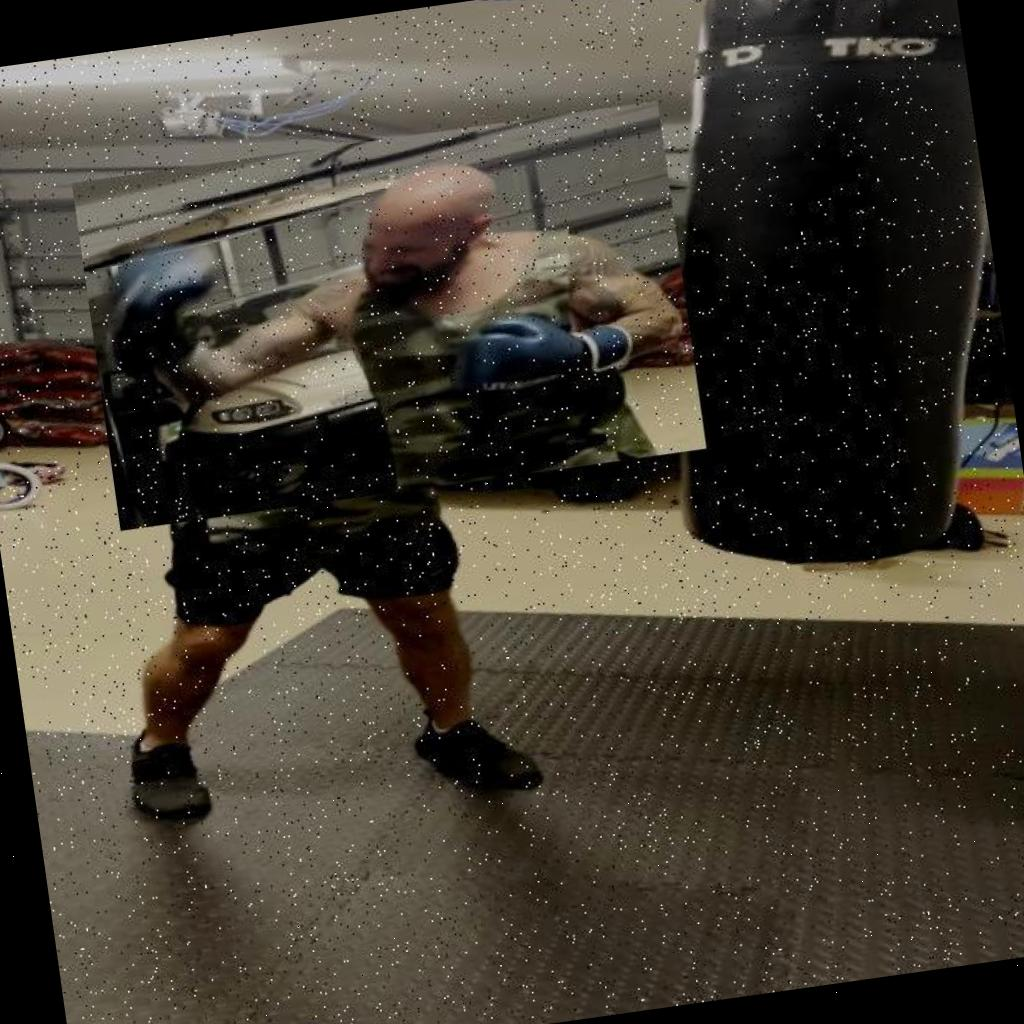bag: (611, 0, 1024, 619)
uppercut: (72, 101, 706, 530)
